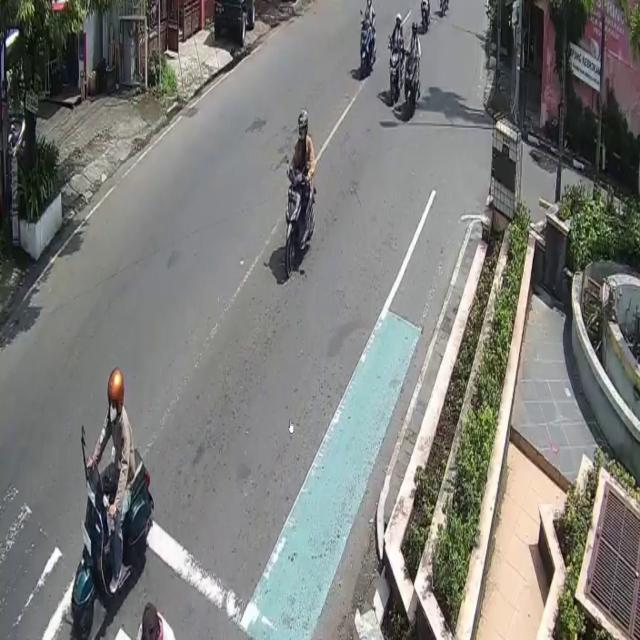bus: (73, 449, 153, 640), (286, 165, 314, 279), (358, 12, 378, 78), (388, 40, 404, 108), (407, 50, 420, 120)
